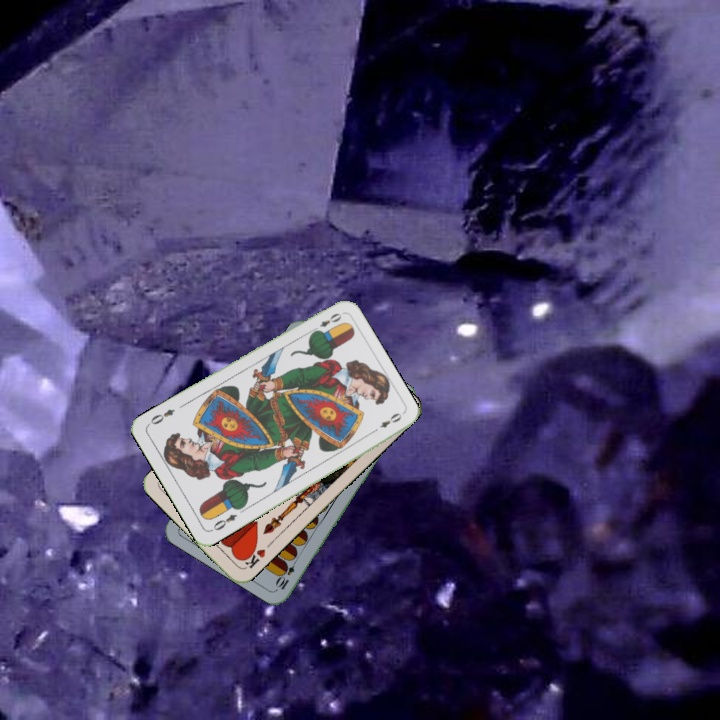E10: (273, 554, 300, 592)
EO: (308, 309, 344, 335), (209, 510, 240, 533)
HK: (238, 543, 268, 571)
